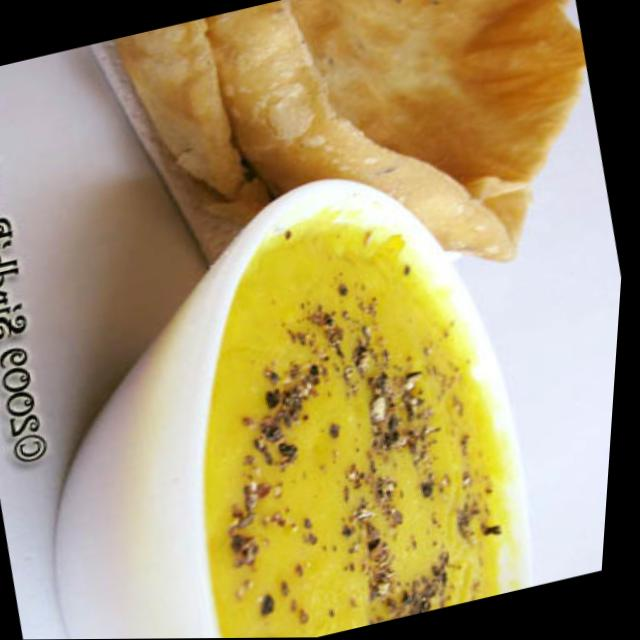DAL: (204, 219, 504, 638)
POORI: (116, 0, 586, 255)
